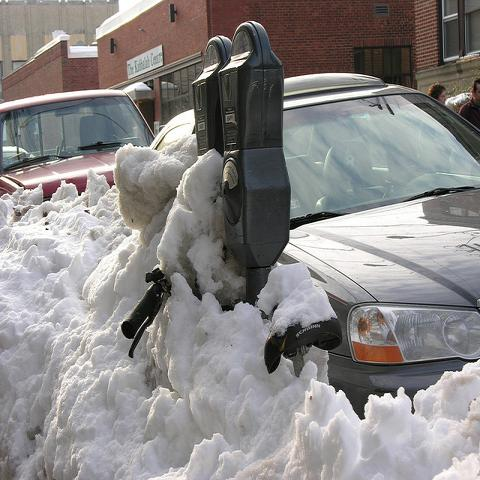car: (282, 88, 479, 385), (2, 90, 157, 221)
truck: (0, 90, 158, 199)
